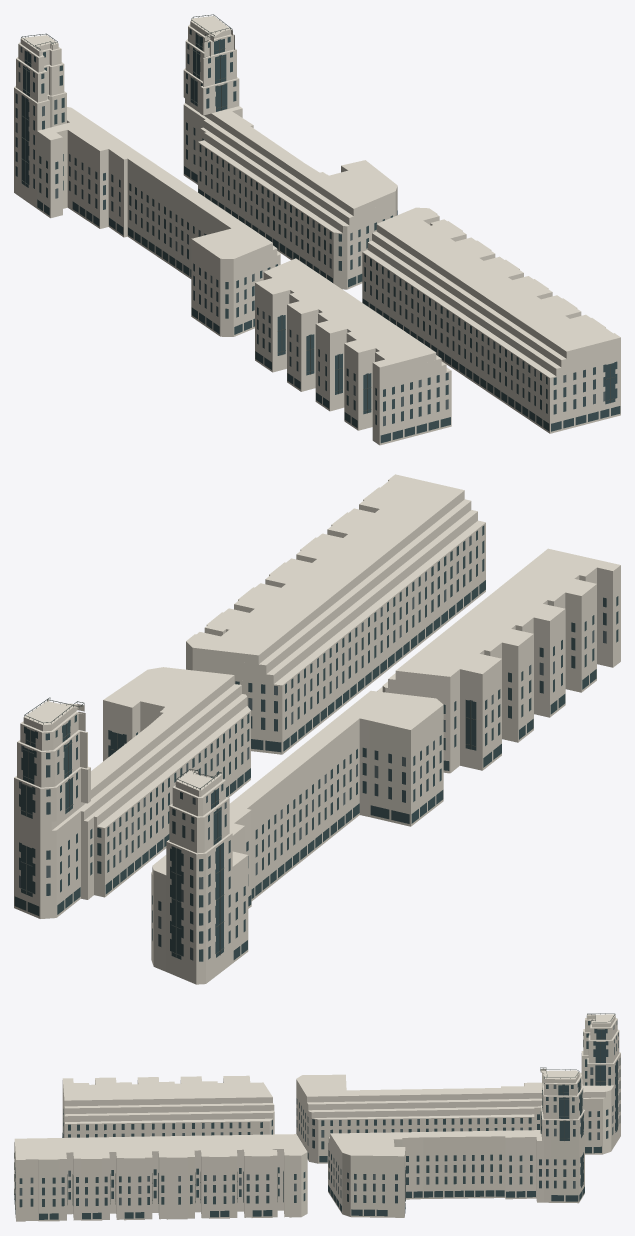
File: gratte-ciel-villeurbanne-far.glb
3 views of the same model, one above another, from view 1: azimuth 30°, elevation 25°; view 2: azimuth 150°, elevation 25°; view 3: azimuth 270°, elevation 25° (orthographic). The views are drawn at different scales.
Visible parts, largest first — view 1: gratte-ciel-villeurbanne-0-stucco, gratte-ciel-villeurbanne-0-glass, gratte-ciel-villeurbanne-0-light, gratte-ciel-villeurbanne-0-metal; view 2: gratte-ciel-villeurbanne-0-stucco, gratte-ciel-villeurbanne-0-glass, gratte-ciel-villeurbanne-0-light, gratte-ciel-villeurbanne-0-metal; view 3: gratte-ciel-villeurbanne-0-stucco, gratte-ciel-villeurbanne-0-glass, gratte-ciel-villeurbanne-0-light, gratte-ciel-villeurbanne-0-metal.
Part boxes in pixels (box(x1,y1,x2,y2)): gratte-ciel-villeurbanne-0-stucco: box(14, 16, 620, 445); gratte-ciel-villeurbanne-0-glass: box(15, 29, 620, 443); gratte-ciel-villeurbanne-0-light: box(15, 44, 605, 426); gratte-ciel-villeurbanne-0-metal: box(21, 14, 615, 413); gratte-ciel-villeurbanne-0-stucco: box(14, 474, 620, 984); gratte-ciel-villeurbanne-0-glass: box(14, 525, 618, 961); gratte-ciel-villeurbanne-0-light: box(19, 535, 606, 960); gratte-ciel-villeurbanne-0-metal: box(20, 697, 475, 957); gratte-ciel-villeurbanne-0-stucco: box(14, 1014, 620, 1221); gratte-ciel-villeurbanne-0-glass: box(14, 1021, 620, 1219); gratte-ciel-villeurbanne-0-light: box(15, 1020, 620, 1206); gratte-ciel-villeurbanne-0-metal: box(15, 1013, 617, 1204).
Size of the model in its own units: 99.63 by 65.03 by 291.
